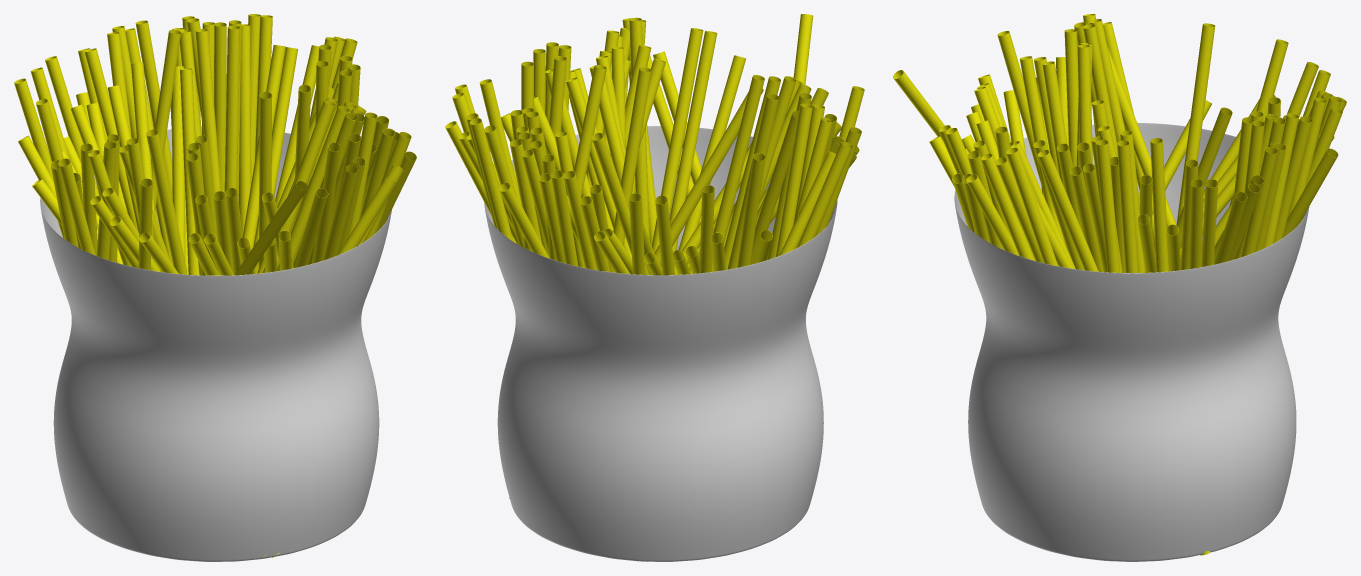
Rendered from uploads_files_3861895_pipets.fbx.
3 renders of one model, left to right at view 1: azimuth 30°, elevation 25°; view 2: azimuth 150°, elevation 25°; view 3: azimuth 270°, elevation 25°, orthographic.
Parts seen in each view (by area): view 1: Circle.053, Circle.094, Circle.042, Circle.012, Circle.023, Circle.001, Circle.020, Circle.046, Circle.088, Circle.090, Circle.004, Circle.014 (+59 smaller); view 2: Circle.053, Circle.028, Circle.072, Circle.086, Circle.069, Circle.011, Circle.083, Circle.009, Circle.027, Circle.099, Circle.101, Circle.055 (+45 smaller); view 3: Circle.053, Circle.055, Circle.078, Circle.075, Circle.095, Circle.035, Circle.032, Circle.059, Circle.024, Circle.076, Circle.084, Circle.093 (+44 smaller).
Boxes of the visible parts, x1,y1,x2,y2 form: Circle.053: [40, 127, 391, 561]; Circle.094: [239, 24, 251, 237]; Circle.042: [224, 25, 239, 193]; Circle.012: [195, 29, 220, 194]; Circle.023: [146, 129, 187, 274]; Circle.001: [180, 68, 199, 275]; Circle.020: [172, 66, 185, 265]; Circle.046: [214, 22, 226, 192]; Circle.088: [242, 44, 285, 249]; Circle.090: [253, 47, 297, 246]; Circle.004: [277, 105, 349, 270]; Circle.014: [84, 48, 138, 231]; Circle.053: [484, 126, 837, 561]; Circle.028: [661, 31, 717, 266]; Circle.072: [652, 28, 703, 252]; Circle.086: [711, 75, 764, 271]; Circle.069: [654, 88, 763, 265]; Circle.011: [613, 67, 651, 272]; Circle.083: [776, 103, 812, 256]; Circle.009: [678, 55, 745, 250]; Circle.027: [750, 111, 799, 264]; Circle.099: [469, 118, 513, 241]; Circle.101: [509, 65, 606, 498]; Circle.055: [737, 153, 765, 267]; Circle.053: [954, 122, 1309, 561]; Circle.055: [1176, 23, 1215, 223]; Circle.078: [1096, 140, 1119, 272]; Circle.075: [1117, 140, 1138, 273]; Circle.095: [1150, 138, 1168, 272]; Circle.035: [1037, 150, 1098, 271]; Circle.032: [1006, 147, 1058, 266]; Circle.059: [1064, 29, 1078, 167]; Circle.024: [1019, 56, 1065, 245]; Circle.076: [981, 153, 1034, 260]; Circle.084: [997, 31, 1041, 185]; Circle.093: [1274, 116, 1312, 243].
Bounding box in the file's own units: 13.28 × 15.08 × 14.74.
